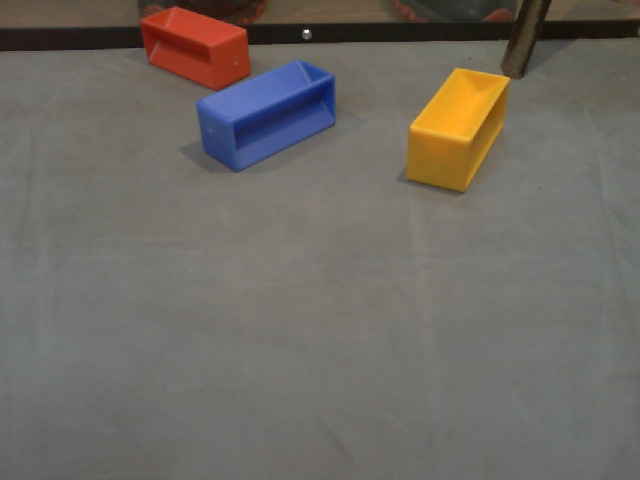BlueSample: (193, 58, 337, 175)
RedSample: (137, 3, 253, 92)
YellowSample: (401, 69, 512, 201)
